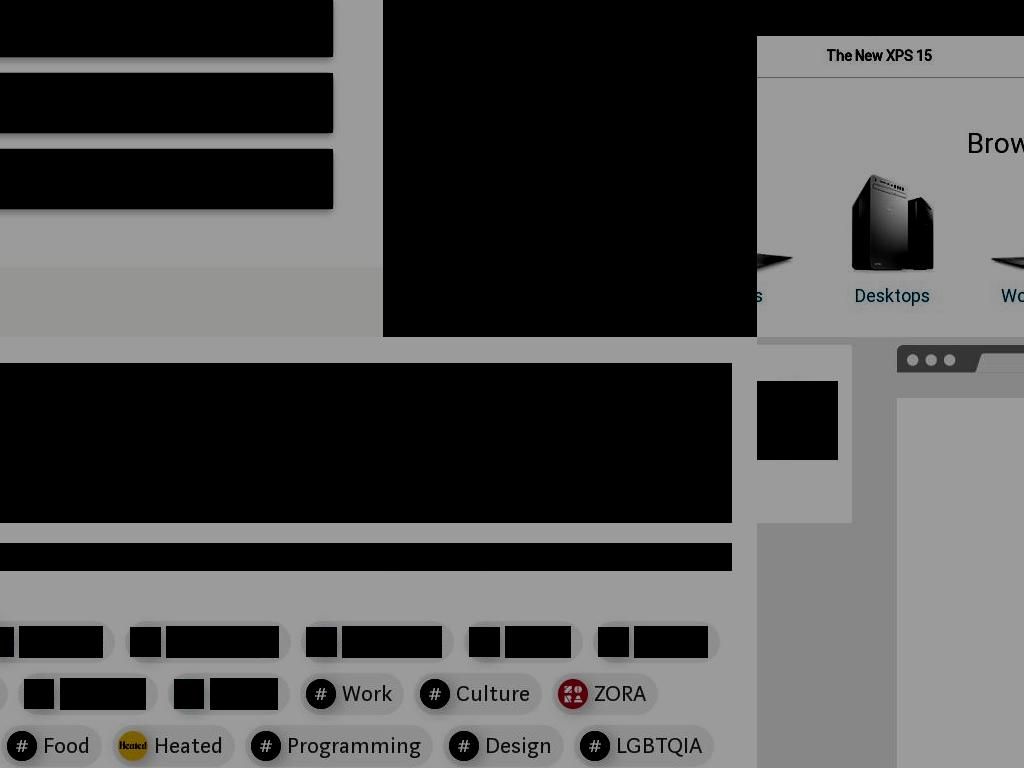button: (0, 73, 333, 133), (0, 149, 333, 209), (0, 0, 333, 57), (826, 169, 959, 307), (757, 35, 1024, 77), (973, 169, 1024, 316), (757, 169, 797, 307)
heading: (0, 363, 732, 523), (0, 543, 732, 571), (757, 127, 1024, 160), (826, 284, 959, 307), (757, 284, 797, 307), (988, 284, 1024, 307)
iframe: (757, 381, 838, 460)
image: (383, 0, 757, 337), (826, 169, 959, 275), (757, 169, 797, 275), (988, 169, 1024, 275), (130, 627, 161, 657), (306, 627, 337, 657), (469, 627, 500, 657), (598, 627, 629, 657), (24, 679, 54, 709), (174, 679, 204, 709), (306, 679, 336, 709), (420, 679, 450, 709), (558, 679, 588, 709), (7, 731, 37, 761), (118, 731, 148, 761), (251, 731, 281, 761), (449, 731, 479, 761), (580, 731, 610, 761), (293, 15, 317, 39), (293, 91, 317, 115), (293, 167, 317, 191), (0, 627, 14, 657)
text: (0, 165, 187, 193), (0, 89, 179, 117), (287, 730, 421, 762), (166, 626, 279, 658), (342, 626, 442, 658), (0, 13, 104, 41), (60, 678, 146, 710), (616, 730, 702, 762), (19, 626, 103, 658), (634, 626, 708, 658), (456, 678, 530, 710), (154, 730, 223, 762), (210, 678, 278, 710), (485, 730, 552, 762), (505, 626, 571, 658), (594, 678, 646, 710), (342, 678, 392, 710), (43, 730, 90, 762)
